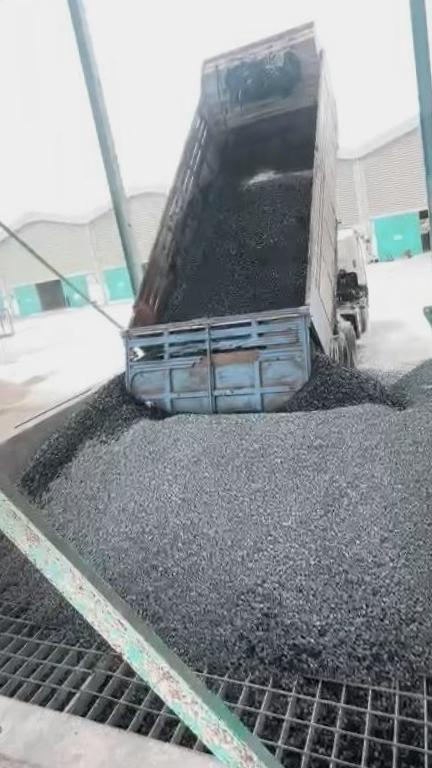gravel: (22, 348, 432, 689), (163, 176, 308, 321), (0, 525, 81, 640)
sand: (0, 372, 58, 447)
